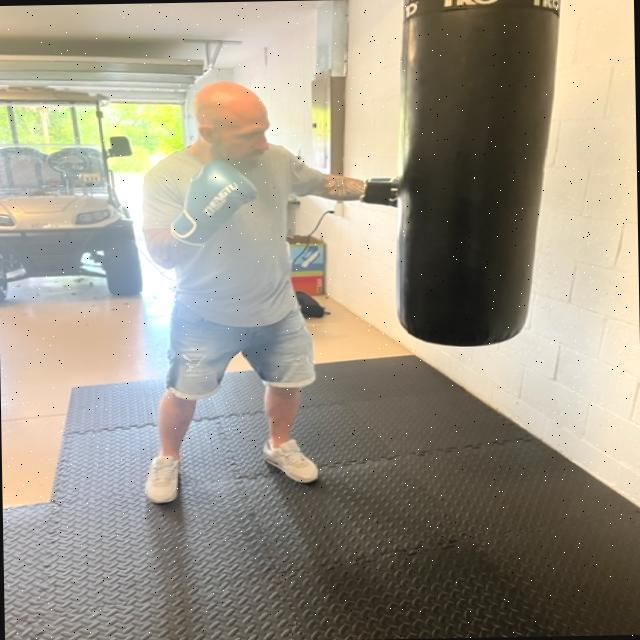hook: (133, 76, 440, 276)
